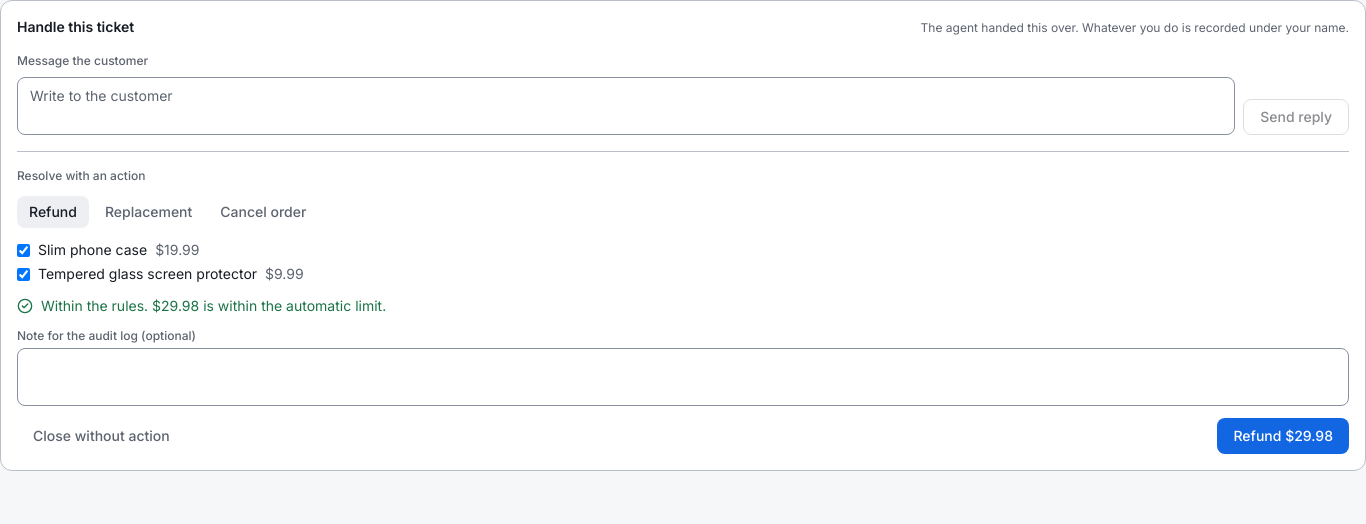
Test case: StaffActions › acts within the rules with one filled button
Check: the text "Within the rules. $29.98 is within the automatic limit." is shown, box [41,296,386,316]
Click the button "Refund $29.98". click: (1283, 436)
box: [1218,418,1349,454]
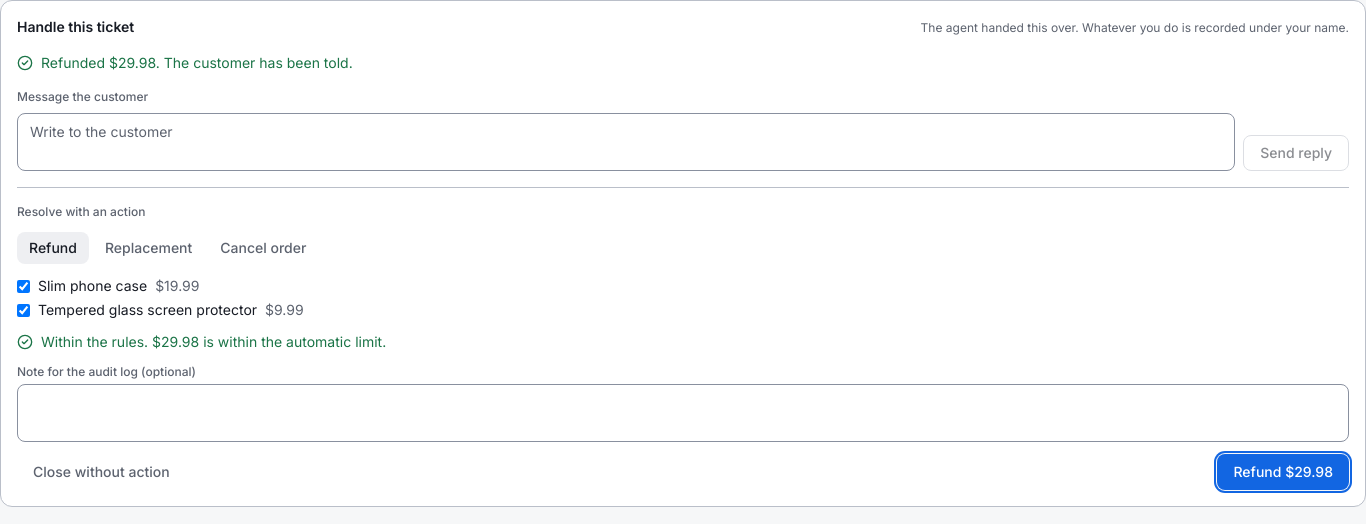
Check: the message reads "Refunded $29.98. The customer has been told.", box [41,54,353,71]
